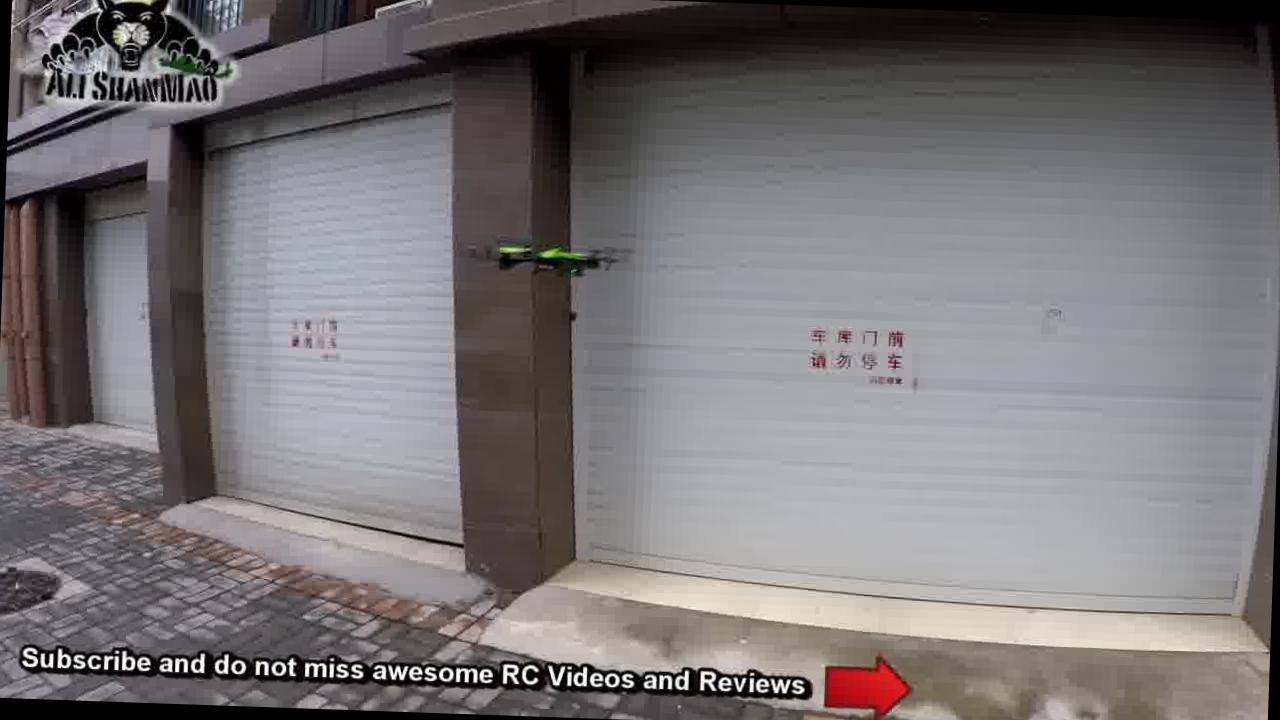drone: (454, 218, 650, 286)
